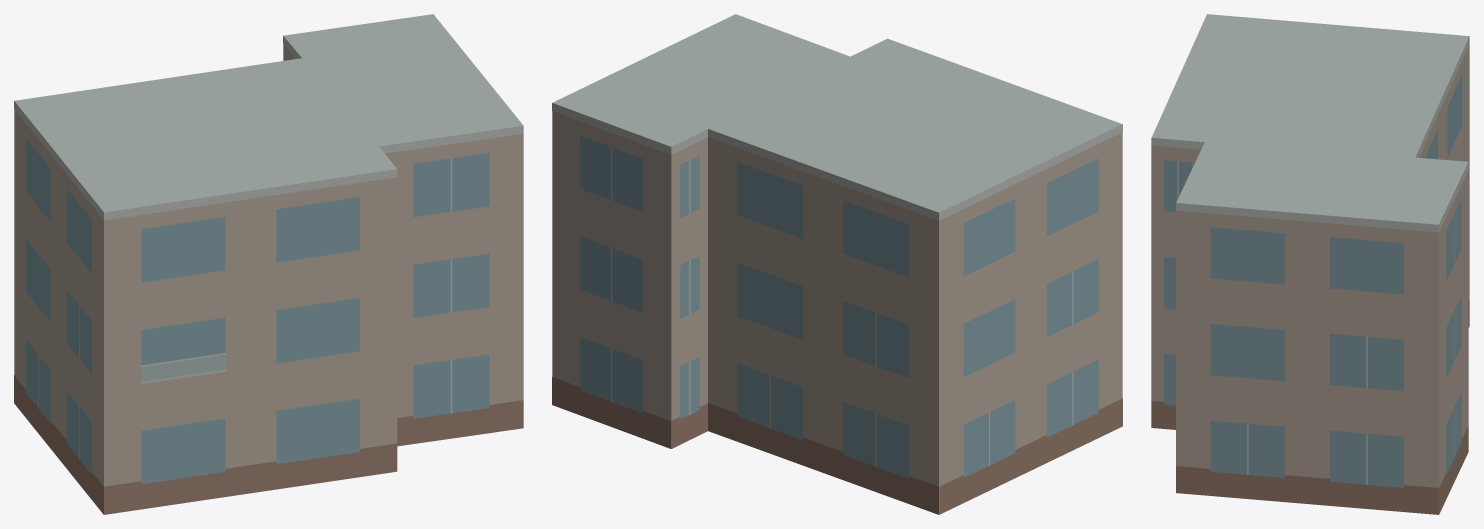
The model's file is survey-upis-32617884.glb.
The picture shows the model from 3 angles, left to right: view 1: azimuth 30°, elevation 25°; view 2: azimuth 150°, elevation 25°; view 3: azimuth 270°, elevation 25°; orthographic projection. The views are drawn at different scales.
Parts seen in each view (by area): view 1: survey-upis-32617884.tmp; view 2: survey-upis-32617884.tmp; view 3: survey-upis-32617884.tmp.
Part boxes in pixels (x1,y1,x2,y2): survey-upis-32617884.tmp: (14,14,523,514); survey-upis-32617884.tmp: (552,14,1122,514); survey-upis-32617884.tmp: (1151,14,1469,514).
Bounding box in the file's own units: 14.27 × 9.15 × 9.1.
